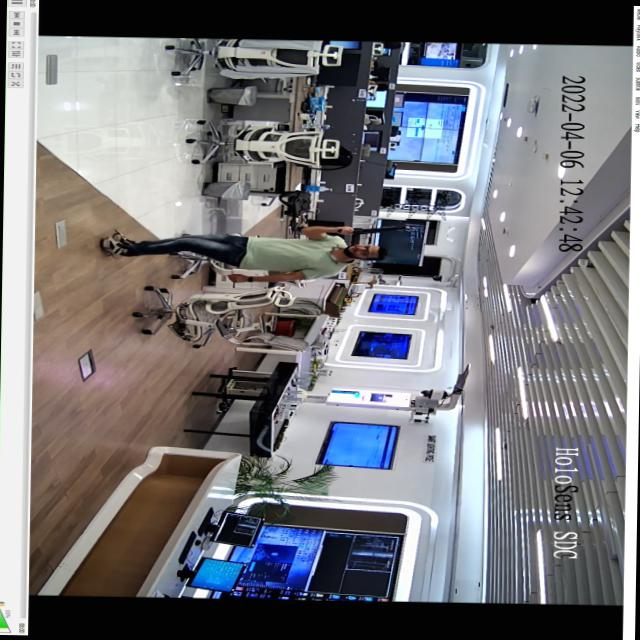long weapon: (326, 220, 414, 242)
